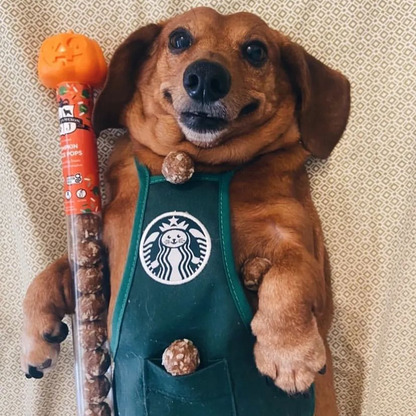dachshund: (104, 5, 349, 362)
